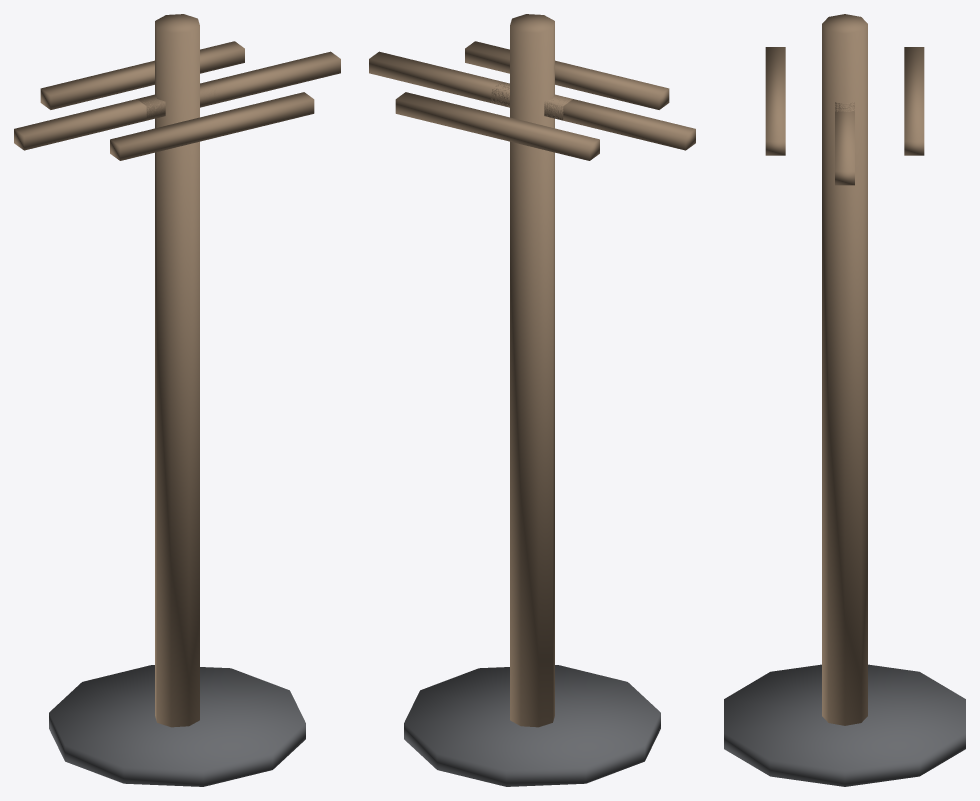
The model's file is coat_rack__squat.glb.
3 renders of one model, left to right at view 1: azimuth 30°, elevation 25°; view 2: azimuth 150°, elevation 25°; view 3: azimuth 270°, elevation 25°, orthographic.
Parts seen in each view (by area): view 1: world; view 2: world; view 3: world.
Part boxes in pixels (x1=…): world: x1=14, y1=14, x2=340, y2=786; world: x1=369, y1=14, x2=695, y2=786; world: x1=724, y1=14, x2=965, y2=786.
Bounding box in the file's own units: 0.682 × 1.46 × 0.4519.
